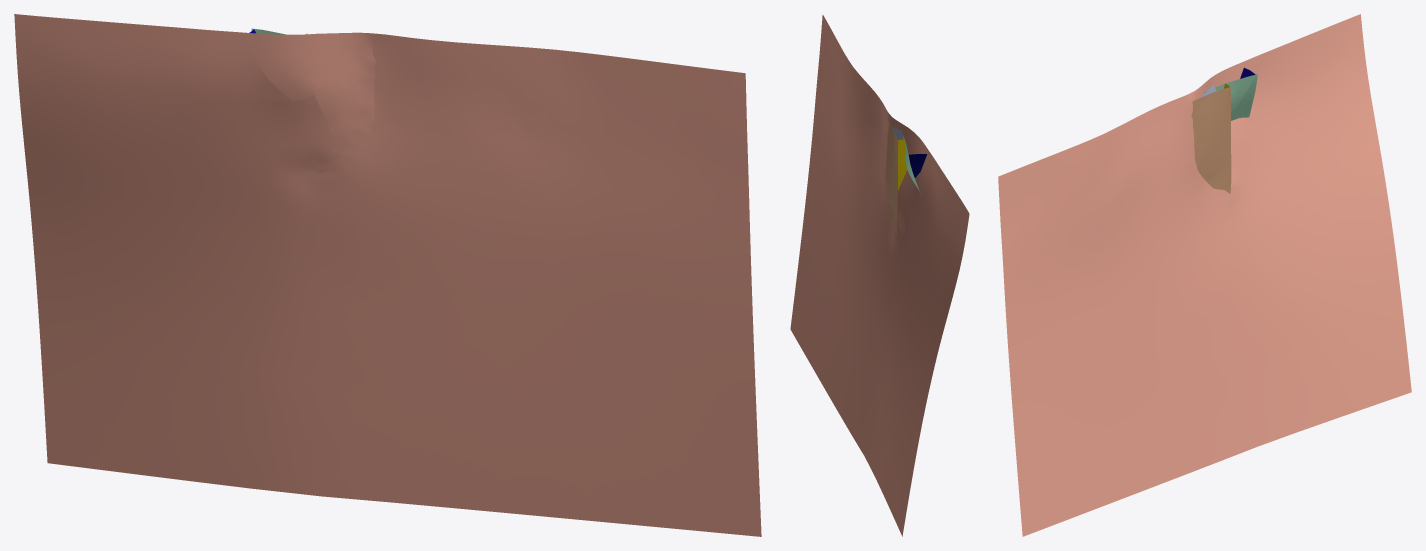
Rendered from NIF_LB_Oct25.glb.
3 views of the same model, side by side, from view 1: azimuth 30°, elevation 25°; view 2: azimuth 150°, elevation 25°; view 3: azimuth 270°, elevation 25° (orthographic). The views are drawn at different scales.
Visible parts, largest first — view 1: Surface Skin; view 2: Surface Skin (×4); view 3: Surface Skin (×3).
Part boxes in pixels (x1,y1,x2,y2): Surface Skin: (14,14,761,536); Surface Skin (×4): (790,14,969,536); Surface Skin (×3): (998,14,1411,536).
Bounding box in the file's own units: 16466 × 15351 × 15986.
